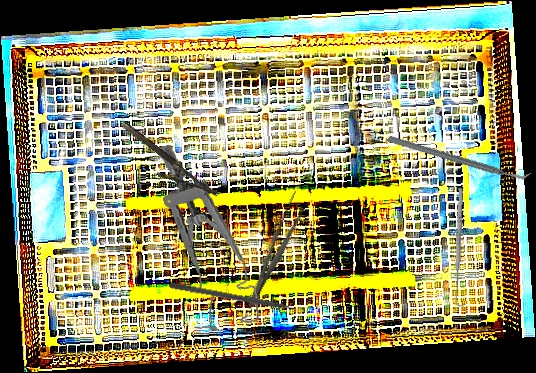Chopper: (386, 87, 533, 227)
Dressing Forceps: (240, 187, 312, 314)
Hook Surgical: (452, 186, 469, 309)
Needle Holder: (110, 119, 220, 213)
Pusher: (168, 281, 311, 317)
Speculum: (156, 136, 261, 335)
